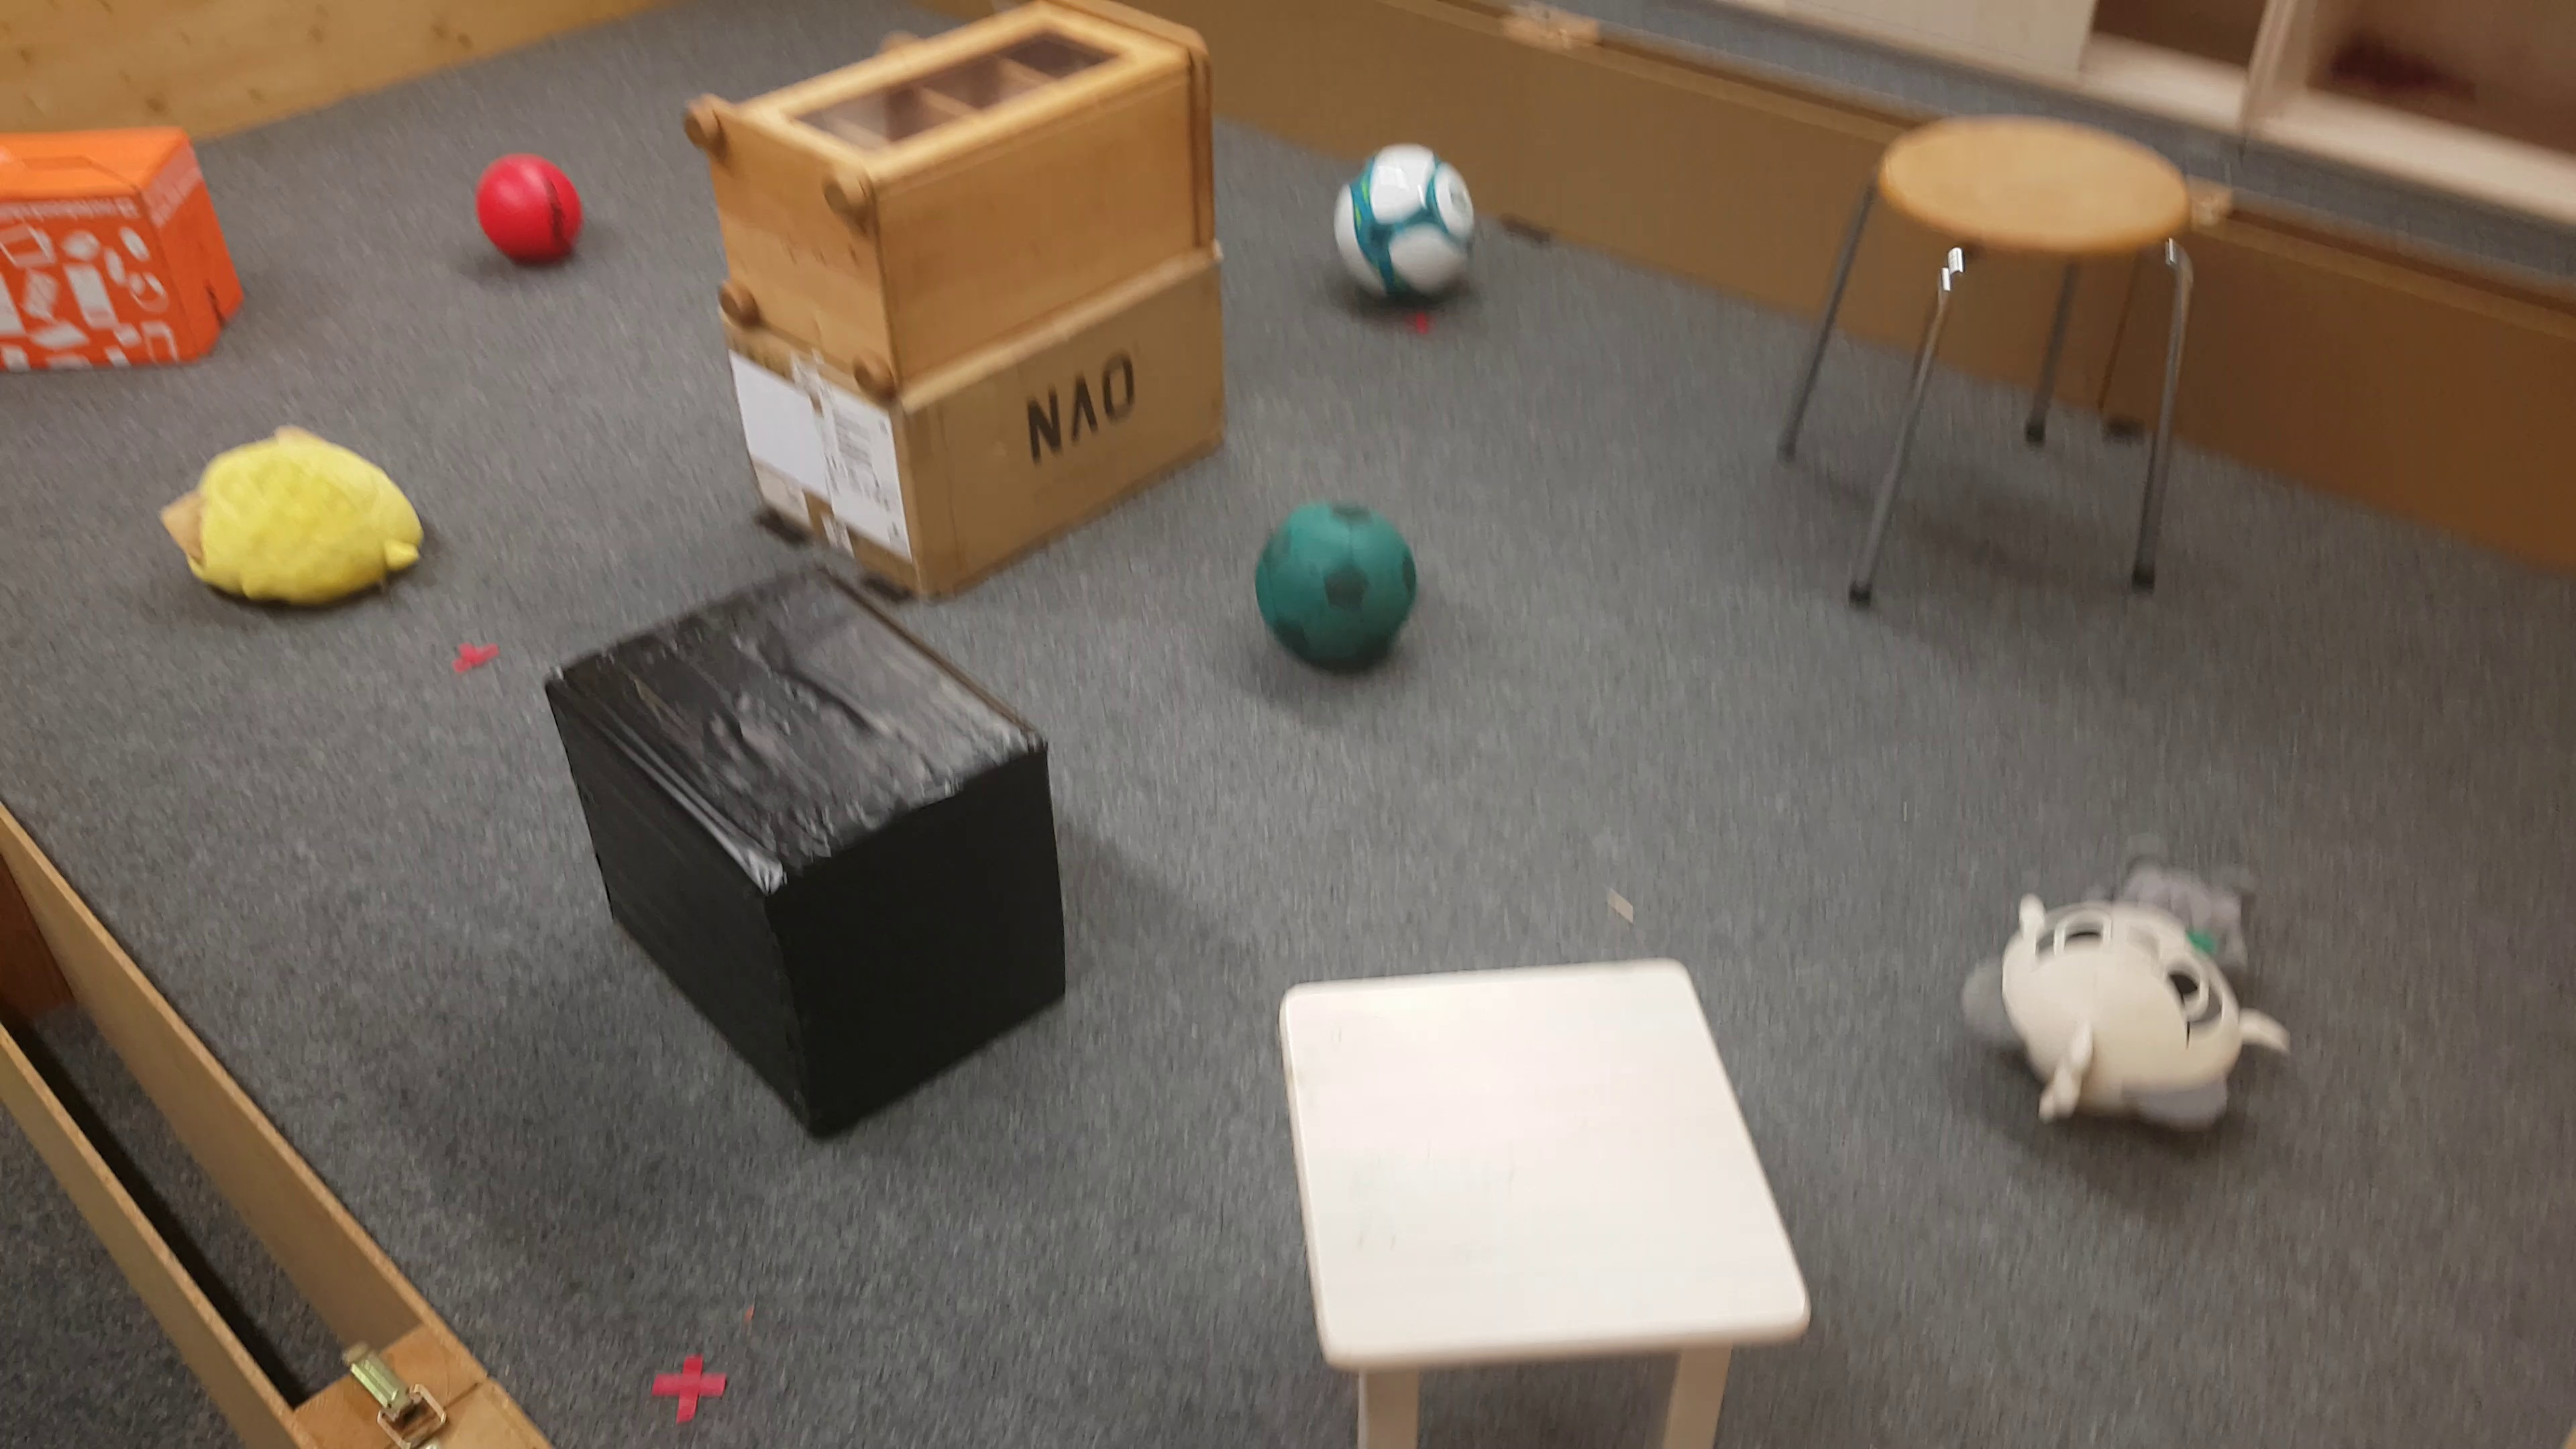grasp: (1944, 833, 2293, 1159), (163, 425, 428, 603)
kick: (1258, 494, 1419, 669), (1339, 142, 1467, 306), (471, 154, 600, 264)
push: (540, 570, 1070, 1143), (0, 129, 251, 377)
